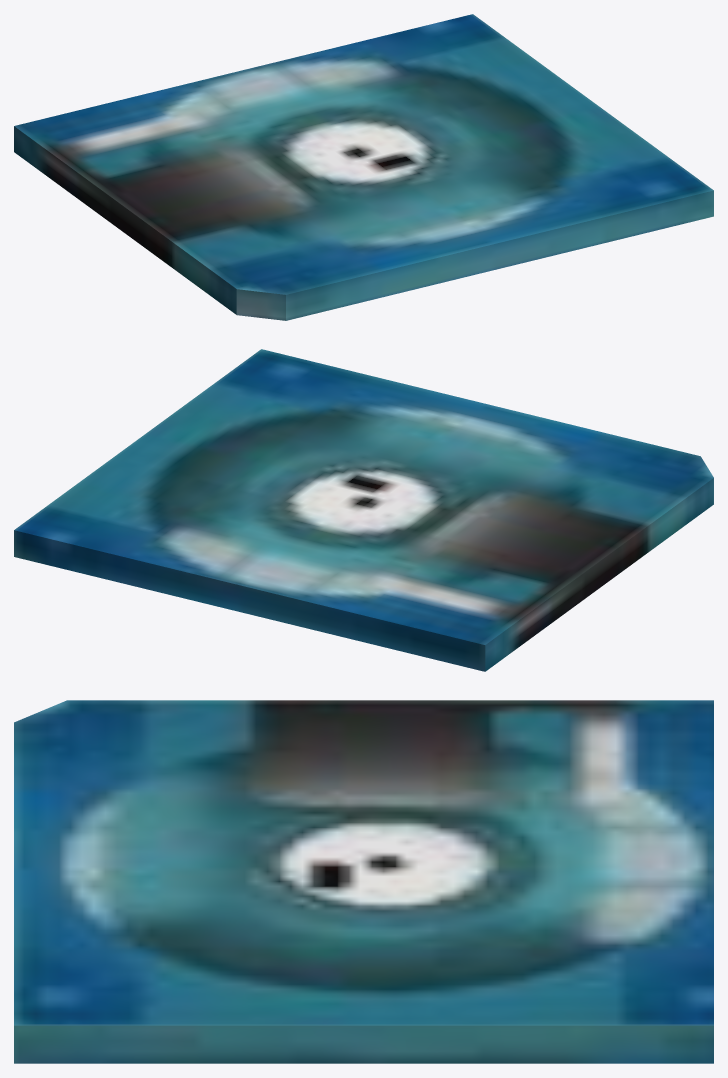
Rendered from floppy.glb.
3 views of the same model, one above another, from view 1: azimuth 30°, elevation 25°; view 2: azimuth 150°, elevation 25°; view 3: azimuth 270°, elevation 25° (orthographic). The views are drawn at different scales.
Parts seen in each view (by area): view 1: world; view 2: world; view 3: world.
Boxes of the visible parts, <box> form: world: <box>14,14,713,320</box>; world: <box>14,349,713,671</box>; world: <box>14,700,713,1063</box>.
Size of the model in its own units: 0.1521 by 0.00824 by 0.1383.
Materials: 1 (1 with a texture image).
